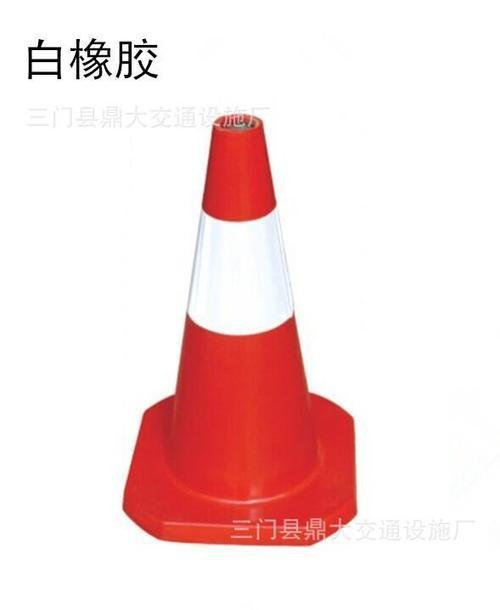cone_barrel: (130, 119, 334, 538)
